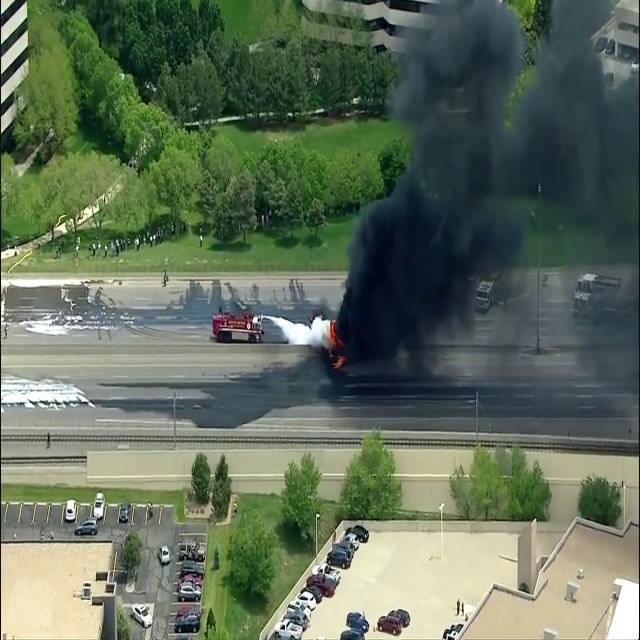Smoke: (334, 1, 638, 387)
